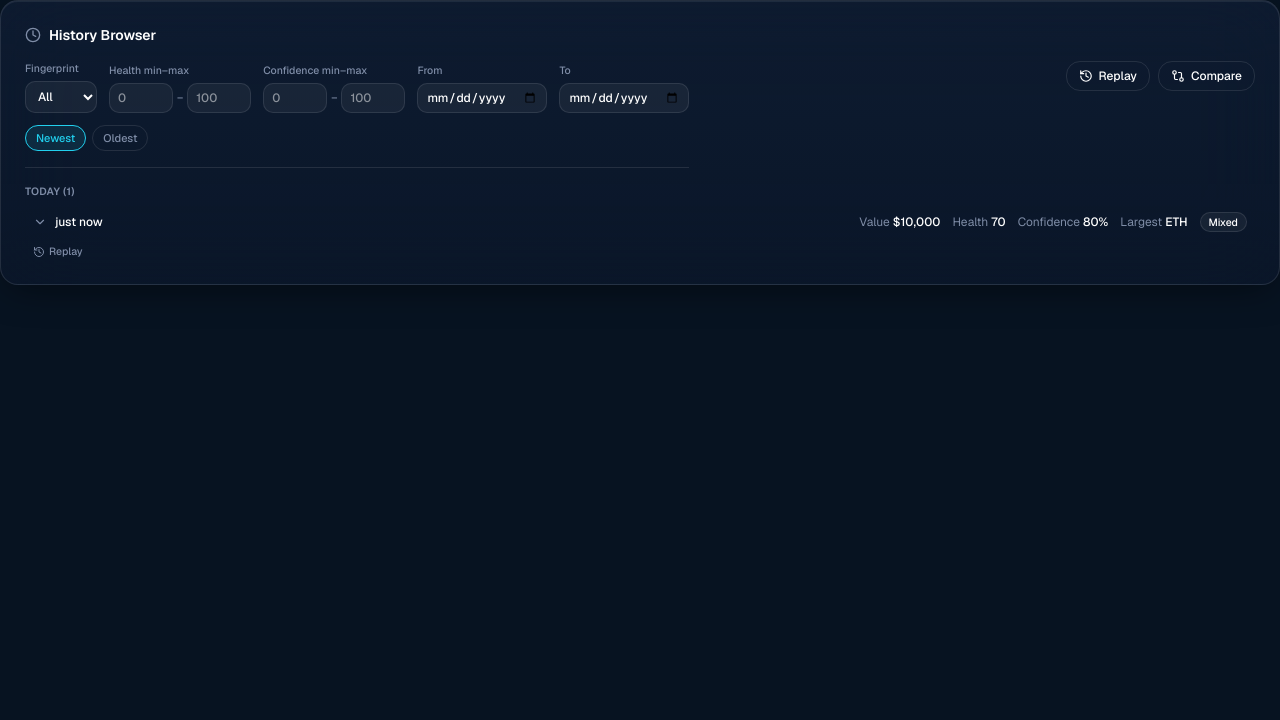
Test: HistoryBrowserSection › clicking an expanded card again collapses it
Click the button "Health 70": (79, 222) [25,204,1255,240]
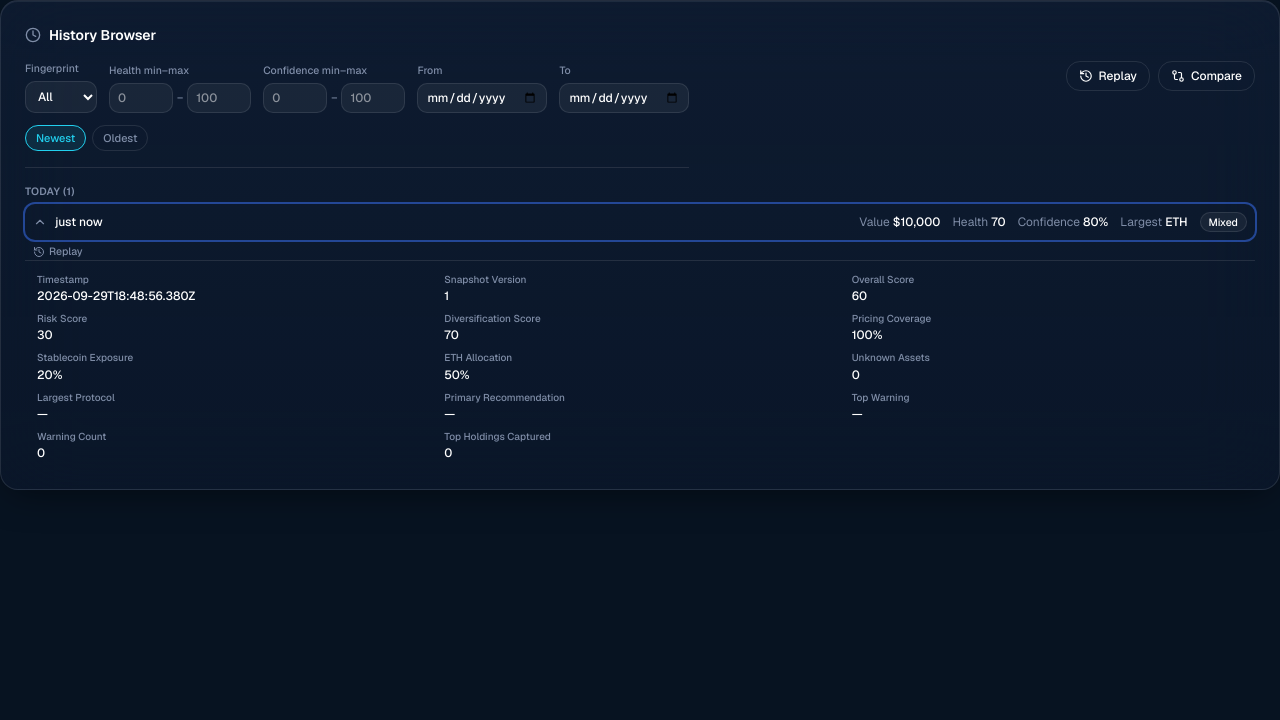
Expected: the text "Snapshot Version" is shown, [444,273,526,286]
Click the button "Health 70": (79, 222) [25,204,1255,240]
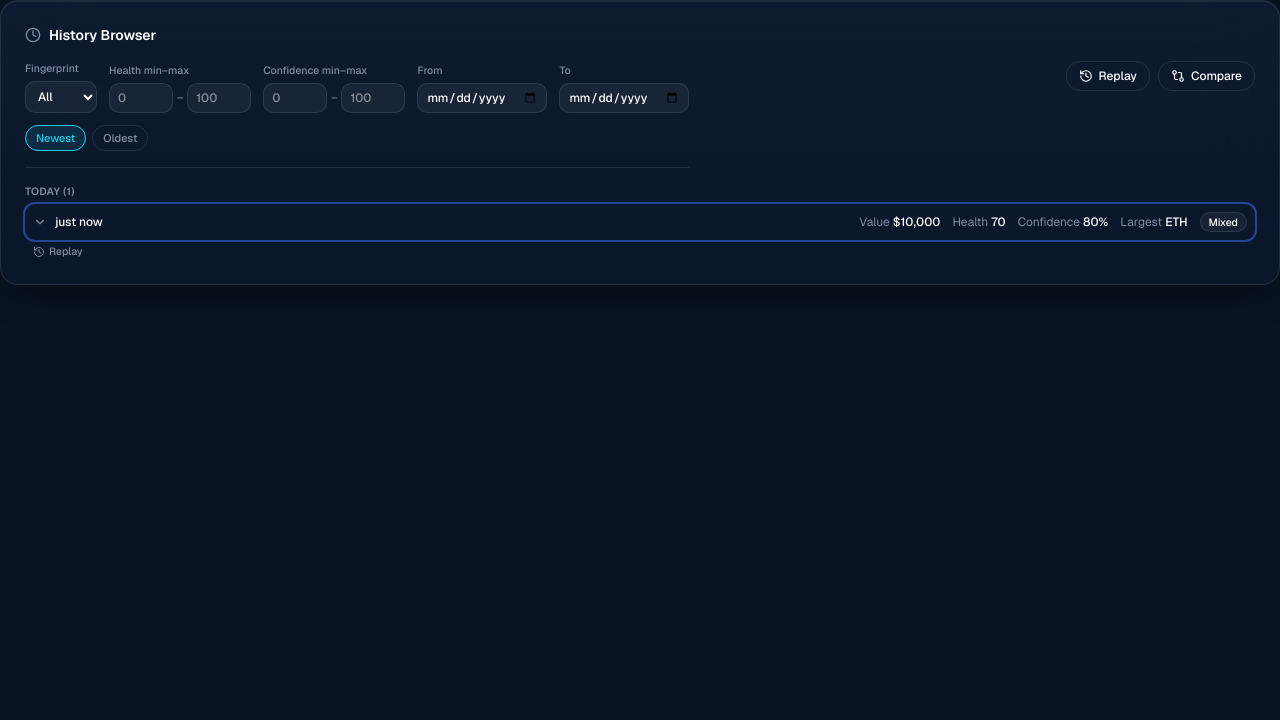
Expected: the text "Snapshot Version" is gone
